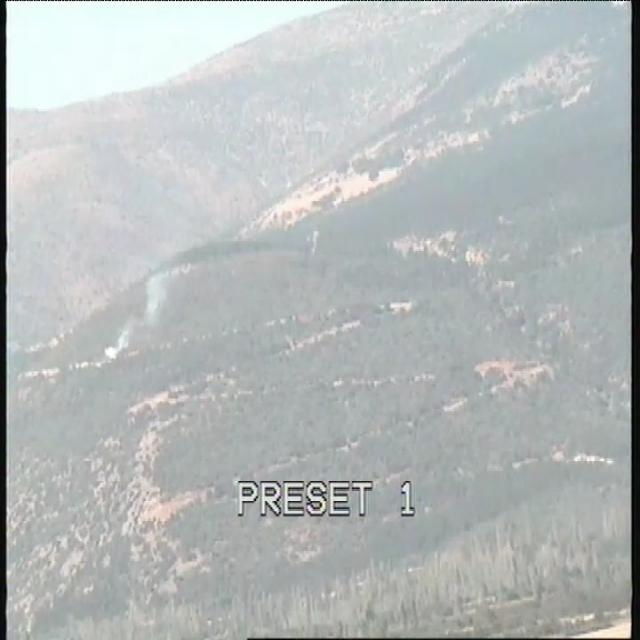smoke: (102, 322, 135, 368)
